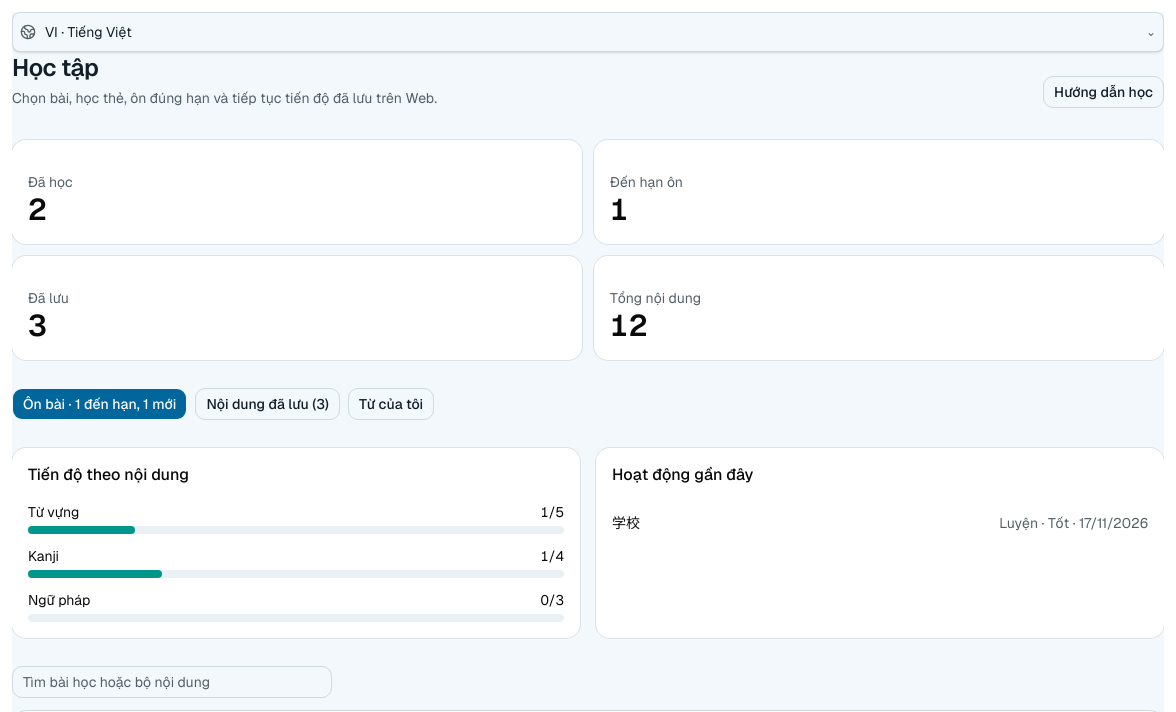
Test: learning home accordions › updates the learning page body in Vietnamese, English, and Japanese without changing source content
Expected: the text "Từ vựng" is shown, [28, 502, 79, 522]
Expected: the text "Tiến độ theo nội dung" is shown, [28, 464, 189, 485]
Select "EN · English" in the dropdown named "Ngôn ngữ giao diện" at (588, 32), box [12, 12, 1164, 52]
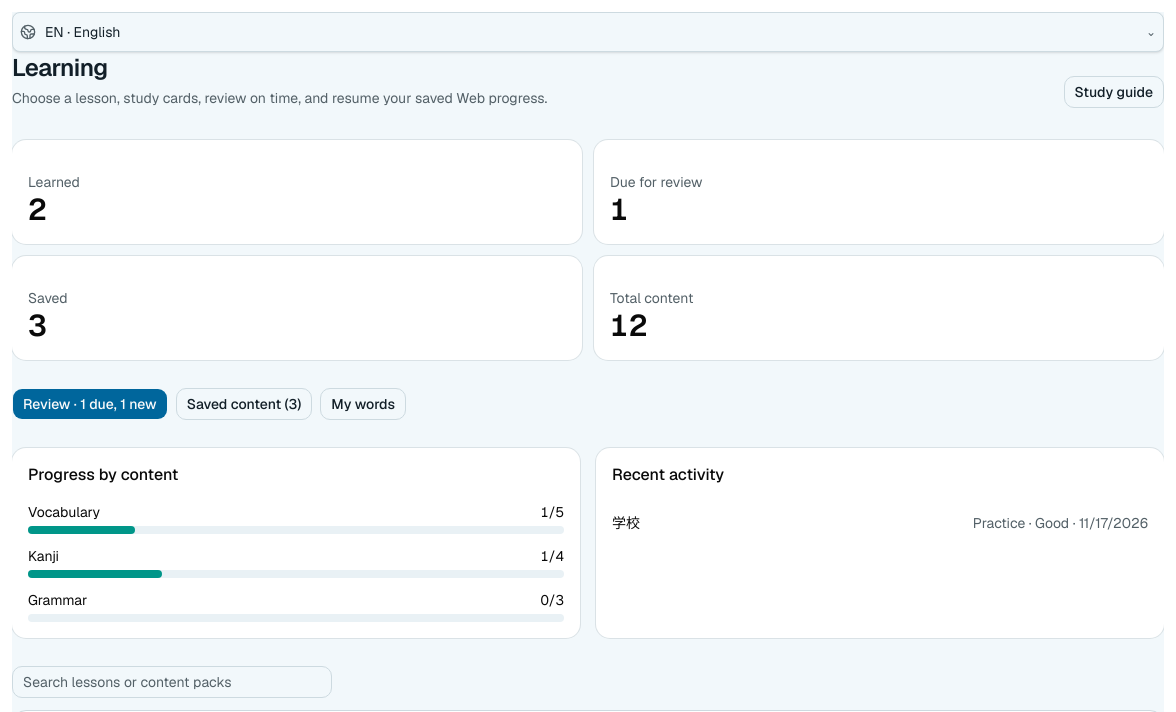
Result: the text "Progress by content" is shown at [28, 464, 178, 485]
Result: the text "Recent activity" is shown at [612, 464, 724, 485]
Result: the button "Review · 1 due, 1 new" is shown at [12, 388, 168, 420]
Select "日本語 · JA" in the dropdown named "Interface language" at (588, 32), box [12, 12, 1164, 52]
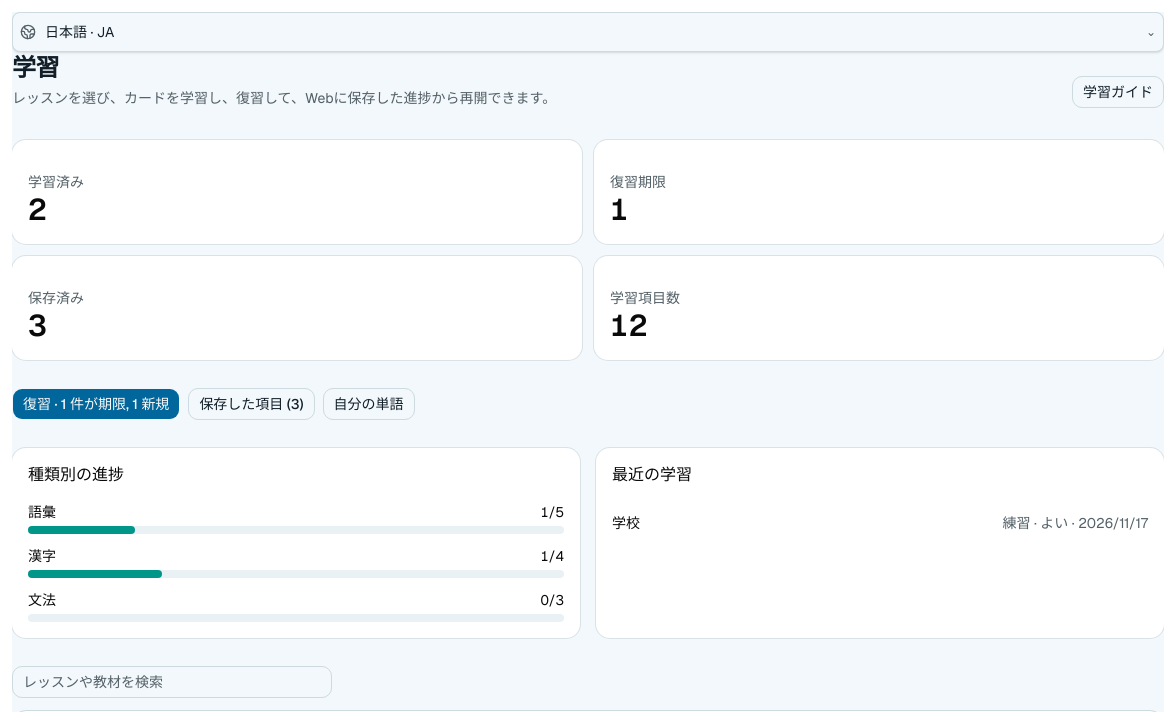
Result: the heading "学習" is shown at [12, 52, 59, 83]
Result: the text "種類別の進捗" is shown at [28, 464, 124, 485]
Result: the text "最近の学習" is shown at [612, 464, 692, 485]
